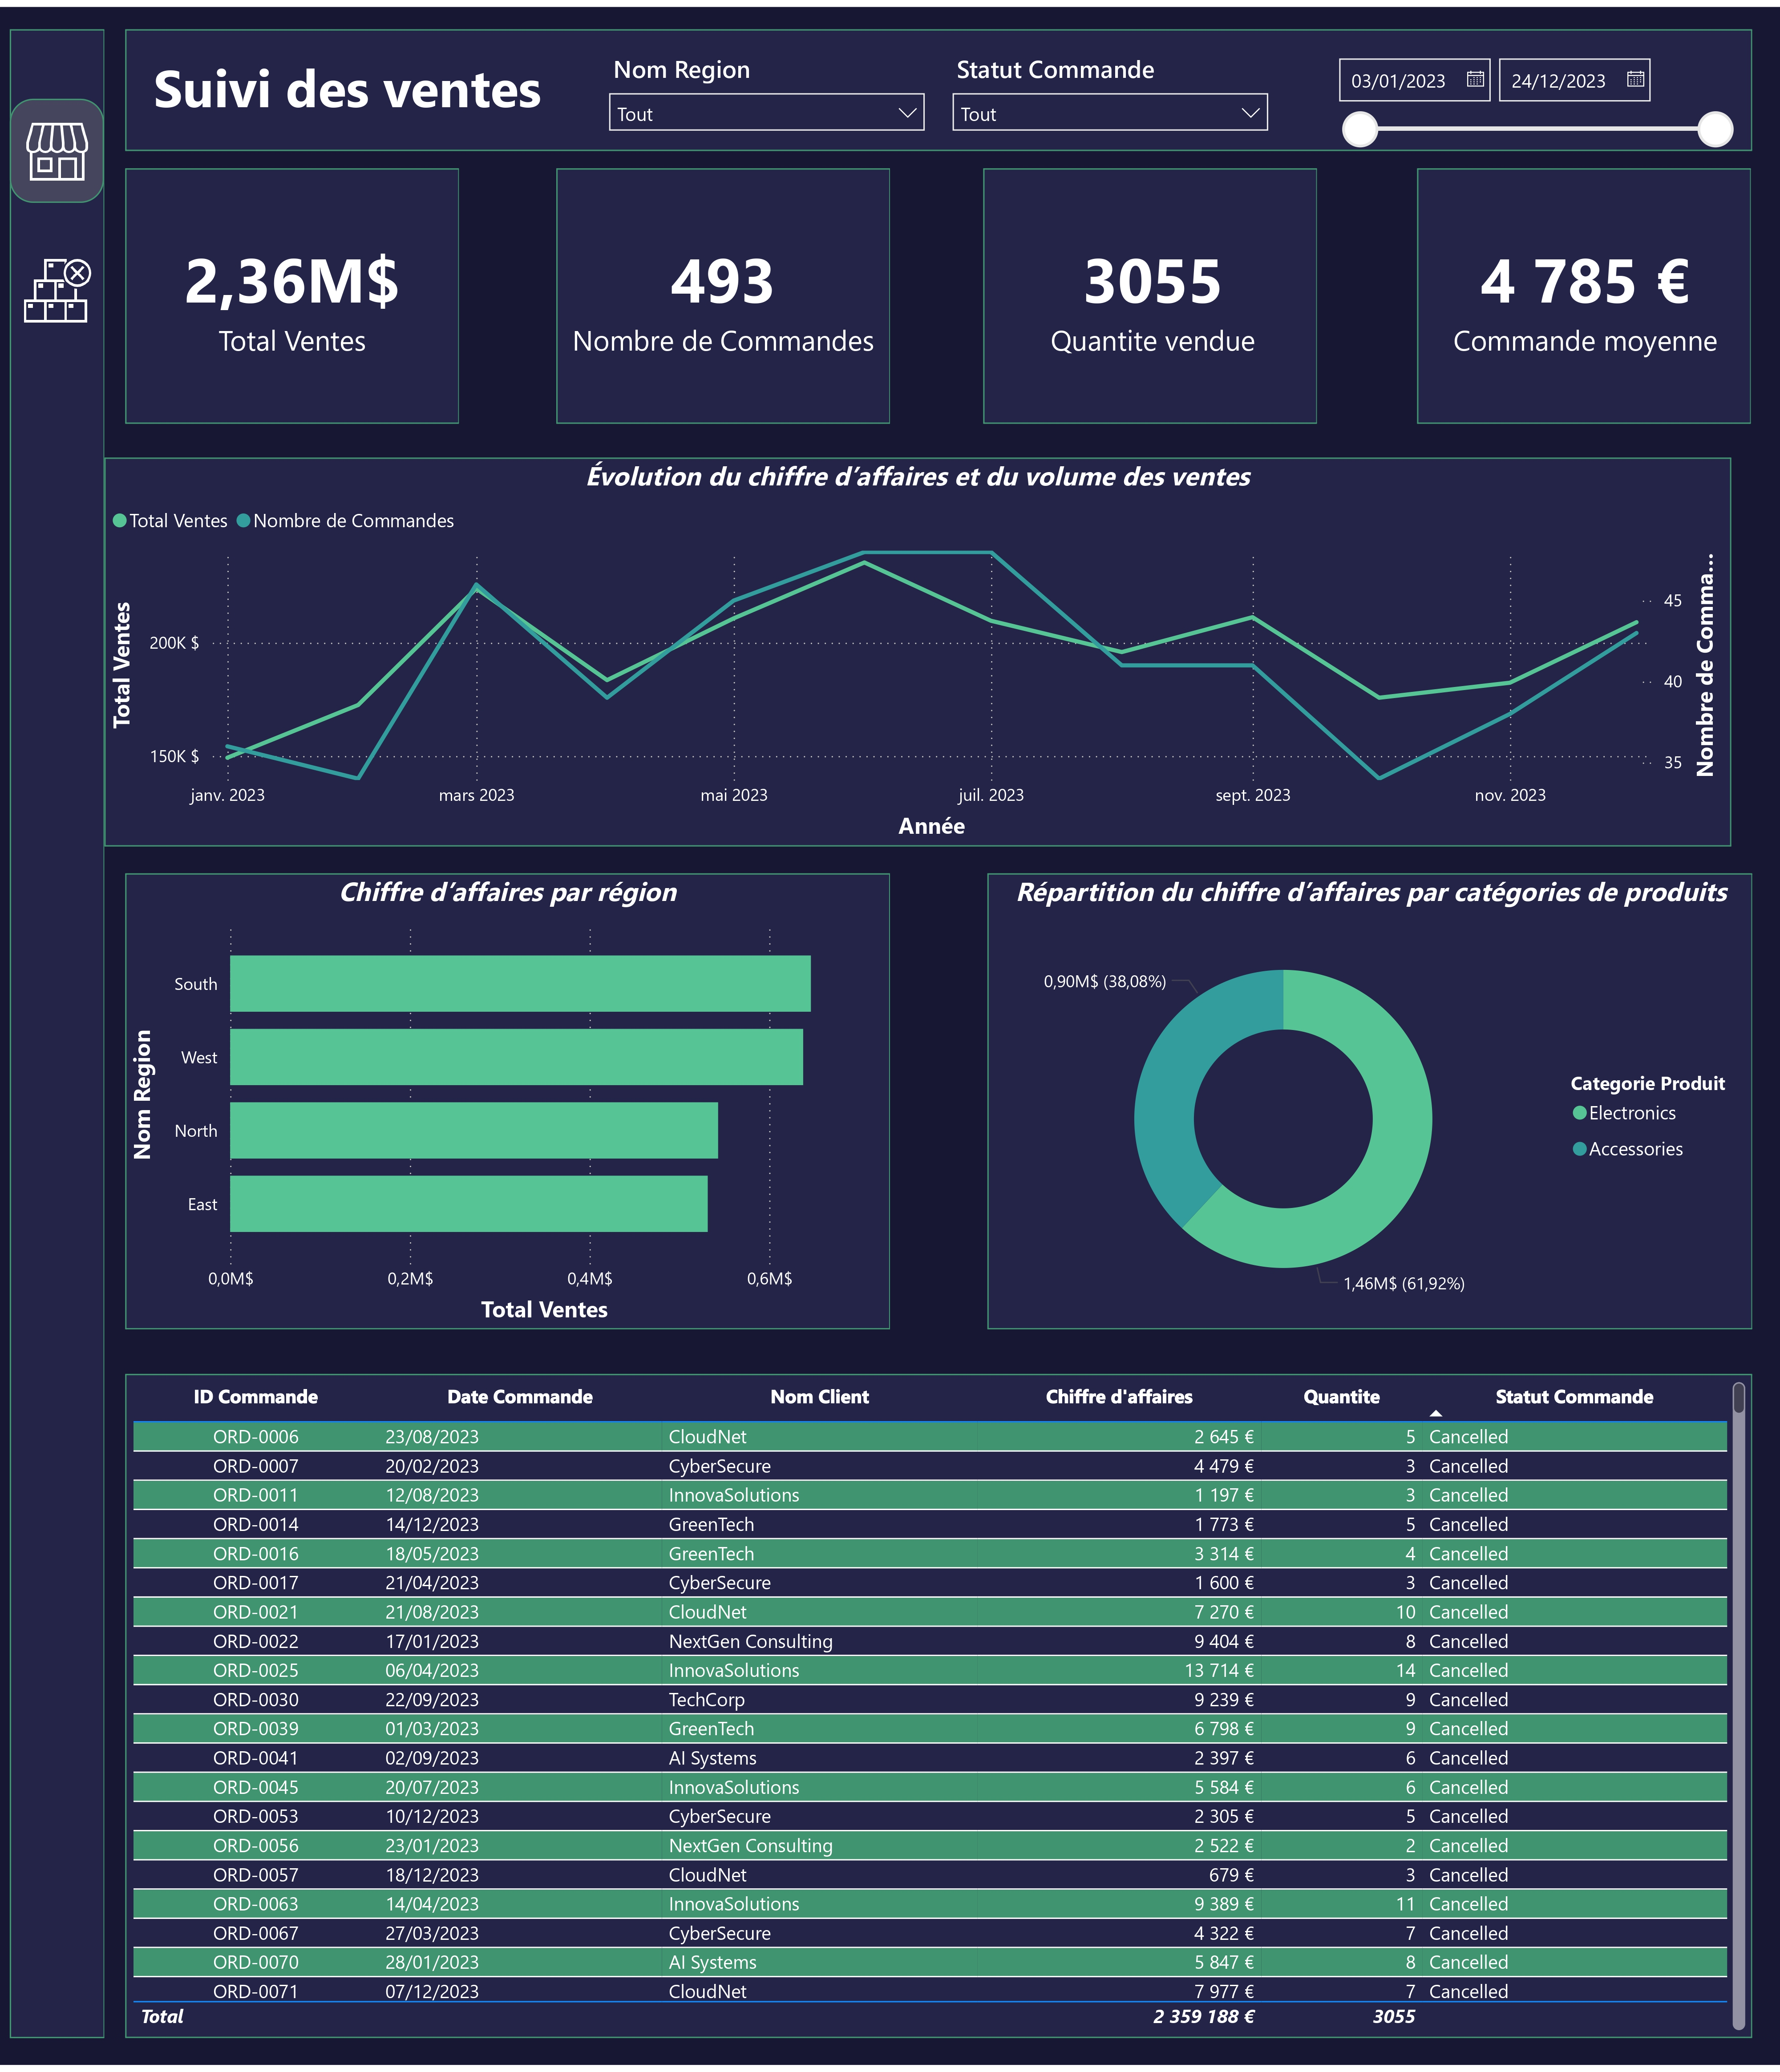

The dashboard page shown, as its layout file describes it:
{"tool":"powerbi","page":{"name":"Suivi ventes","canvas":[1280,1480],"ordinal":0},"visuals":[{"type":"shape","box":[7.5,16,68.4,1444.8],"z":0},{"type":"shape","box":[89.8,16,1170.1,87.6],"z":1000},{"type":"shape","box":[89.8,116.5,240.4,183.8],"z":2000},{"type":"shape","box":[399.7,116.5,240.4,183.8],"z":3000},{"type":"shape","box":[707.4,116.5,240.4,183.8],"z":4000},{"type":"shape","box":[1019.5,116.5,240.4,183.8],"z":5000},{"type":"shape","box":[74.9,323.6,1170.1,279.8],"z":6000},{"type":"shape","box":[89.8,623,550.3,328.1],"z":7000},{"type":"shape","box":[709.6,623,550.3,328.1],"z":8000},{"type":"shape","box":[89.8,983.1,1170.1,477.7],"z":9000},{"type":"textbox","box":[100.3,26.8,299.6,63.6],"z":10000},{"type":"card","fields":{"Values":["Clients.Total Ventes"]},"box":[90.4,115.9,240.2,183.7],"z":11000},{"type":"card","fields":{"Values":["Ventes.Nombre de Commandes"]},"box":[399.9,115.9,240.2,183.7],"z":12000},{"type":"card","fields":{"Values":["Ventes.Quantite vendue"]},"box":[709.4,115.9,240.2,183.7],"z":13000},{"type":"card","fields":{"Values":["Ventes.Commande moyenne"]},"box":[1020.3,115.9,240.2,183.7],"z":14000},{"type":"lineChart","title":"Évolution du chiffre d’affaires et du volume des ventes","fields":{"Category":["Ventes.Date Commande.Variation.Hiérarchie de dates.Année","Ventes.Date Commande.Variation.Hiérarchie de dates.Trimestre","Ventes.Date Commande.Variation.Hiérarchie de dates.Mois"],"Y":["Mesures.Total Ventes"],"Y2":["Mesures.Nombre de Commandes"]},"box":[74.6,324.4,1169.3,279.3],"z":15000},{"type":"barChart","title":"Chiffre d’affaires par région","fields":{"Y":["Mesures.Total Ventes"],"Category":["Regions.Nom Region"]},"box":[90.4,623.2,549.7,327.8],"z":16000},{"type":"donutChart","title":"Répartition du chiffre d’affaires par catégories de produits","fields":{"Category":["Porduits.Categorie Produit"],"Y":["Mesures.Total Ventes"]},"box":[710.8,623.2,549.7,327.8],"z":17000},{"type":"tableEx","fields":{"Values":["Ventes.ID Commande","Ventes.Date Commande","Clients.Nom Client","Ventes.Prix Total","Ventes.Quantite","Ventes.Statut Commande"]},"box":[90.4,983.5,1170.1,476.2],"z":18000},{"type":"slicer","fields":{"Values":["Regions.Nom Region"]},"box":[428.2,26.8,247.3,76.3],"z":19000},{"type":"slicer","title":"Statut commande","fields":{"Values":["Ventes.Statut Commande"]},"box":[675.5,26.8,247.3,76.3],"z":20000},{"type":"slicer","fields":{"Values":["Ventes.Date Commande"]},"box":[949.6,26.8,309.5,76.3],"z":21000},{"type":"image","box":[7.1,149.8,67.8,107.4],"z":22000},{"type":"shape","box":[7.1,66.4,67.8,74.9],"z":23000},{"type":"image","box":[7.1,59.4,67.8,90.4],"z":24000}]}

Visuals, with their boxes in screenshot pixels (x1, y1, x2, y2), scaled from the page's 1280x1480 canvas onto the 1780x2072 screenshot:
shape: (10, 22, 105, 2045)
shape: (125, 22, 1752, 145)
shape: (125, 163, 459, 420)
shape: (556, 163, 890, 420)
shape: (984, 163, 1318, 420)
shape: (1418, 163, 1752, 420)
shape: (104, 453, 1731, 845)
shape: (125, 872, 890, 1332)
shape: (987, 872, 1752, 1332)
shape: (125, 1376, 1752, 2045)
textbox: (139, 37, 556, 126)
card - Clients.Total Ventes: (125, 162, 460, 420)
card - Ventes.Nombre de Commandes: (556, 162, 890, 420)
card - Ventes.Quantite vendue: (987, 162, 1320, 420)
card - Ventes.Commande moyenne: (1419, 162, 1753, 420)
"Évolution du chiffre d’affaires et du volume des ventes" lineChart: (104, 454, 1730, 845)
"Chiffre d’affaires par région" barChart: (125, 872, 890, 1331)
"Répartition du chiffre d’affaires par catégories de produits" donutChart: (988, 872, 1753, 1331)
tableEx - Ventes.ID Commande x Ventes.Date Commande: (125, 1377, 1753, 2044)
slicer - Regions.Nom Region: (595, 37, 939, 144)
"Statut commande" slicer: (939, 37, 1283, 144)
slicer - Ventes.Date Commande: (1321, 37, 1751, 144)
image: (10, 210, 104, 360)
shape: (10, 93, 104, 198)
image: (10, 83, 104, 210)
